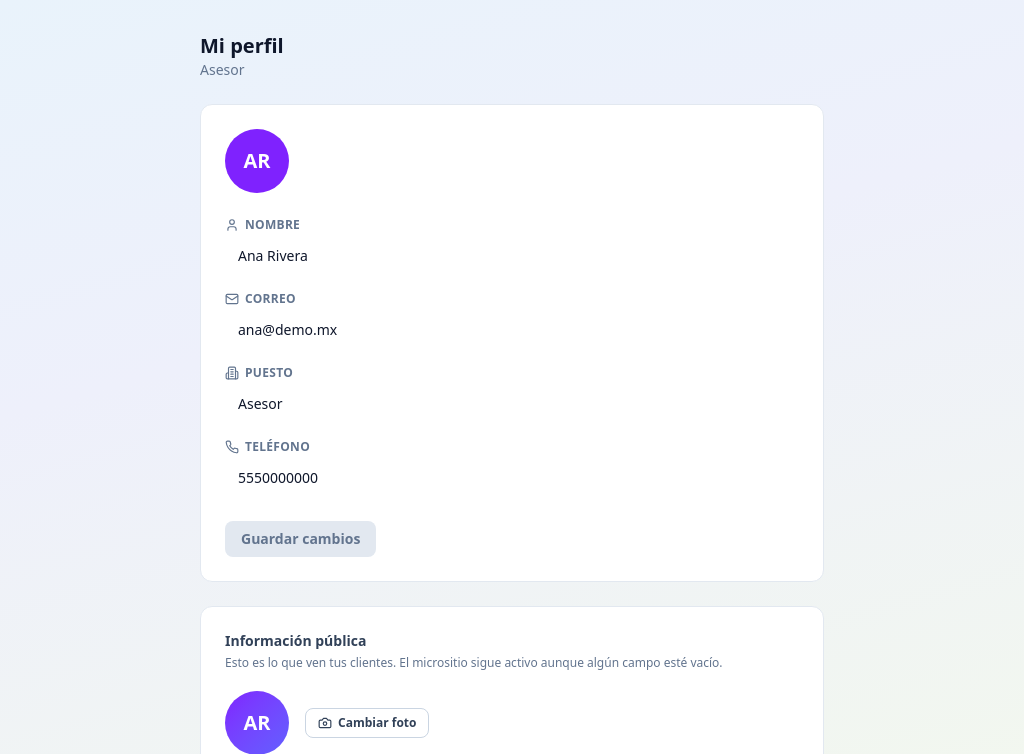
Test case: PerfilPersonal: éxito respaldado por backend › solicita el cambio de correo en Auth y espera confirmación sin mutar el perfil
Step 1. Replace the text in the 2nd field with "nueva@demo.mx" → x=512, y=330, box [225,311,799,349]
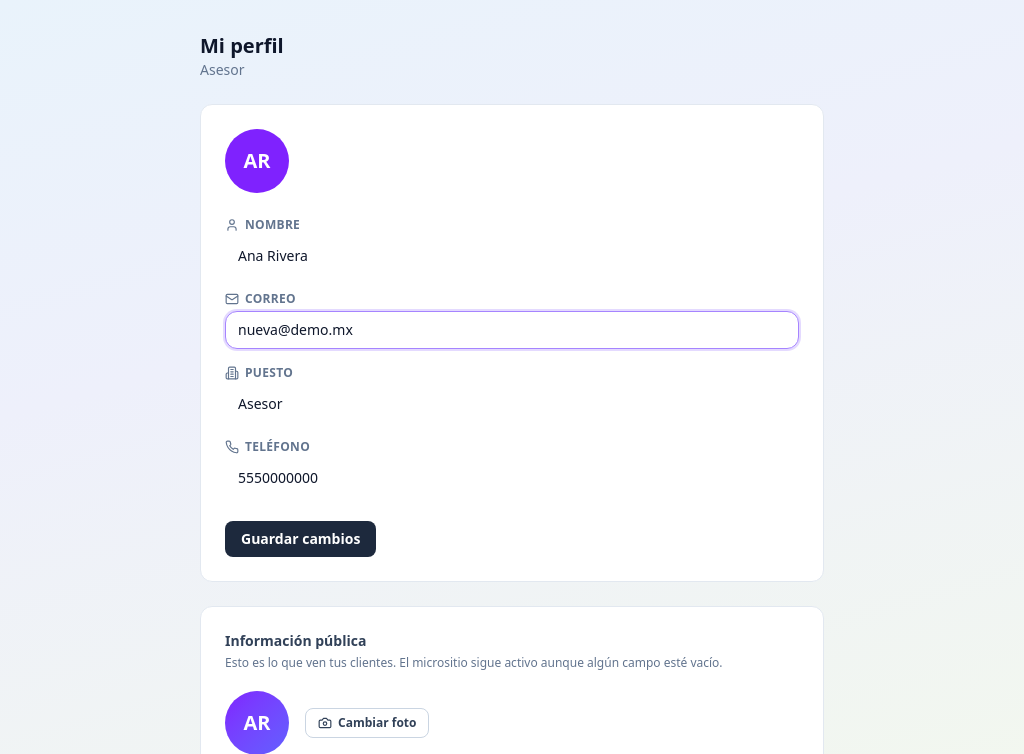
Step 2. Click the button "Guardar cambios" → x=301, y=539, box [225,521,376,557]
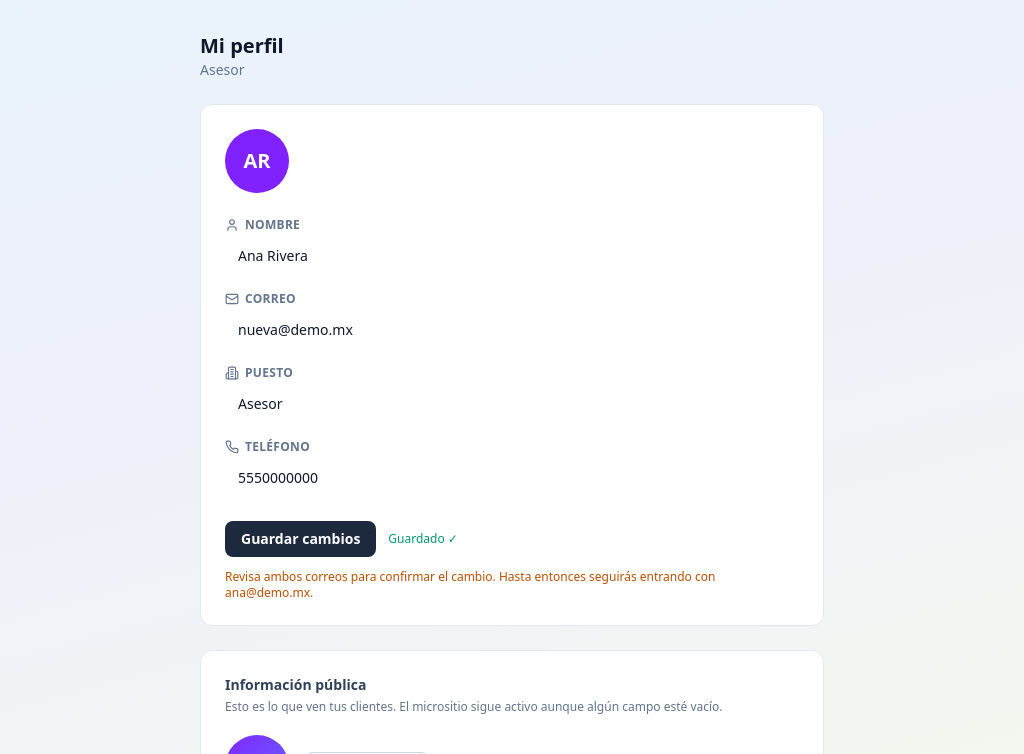
expect the message shows "confirmar el cambio": met, box [225,568,715,585]
